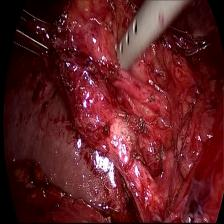Grasper: (16, 2, 57, 64)
Irrigator: (114, 3, 154, 72)
